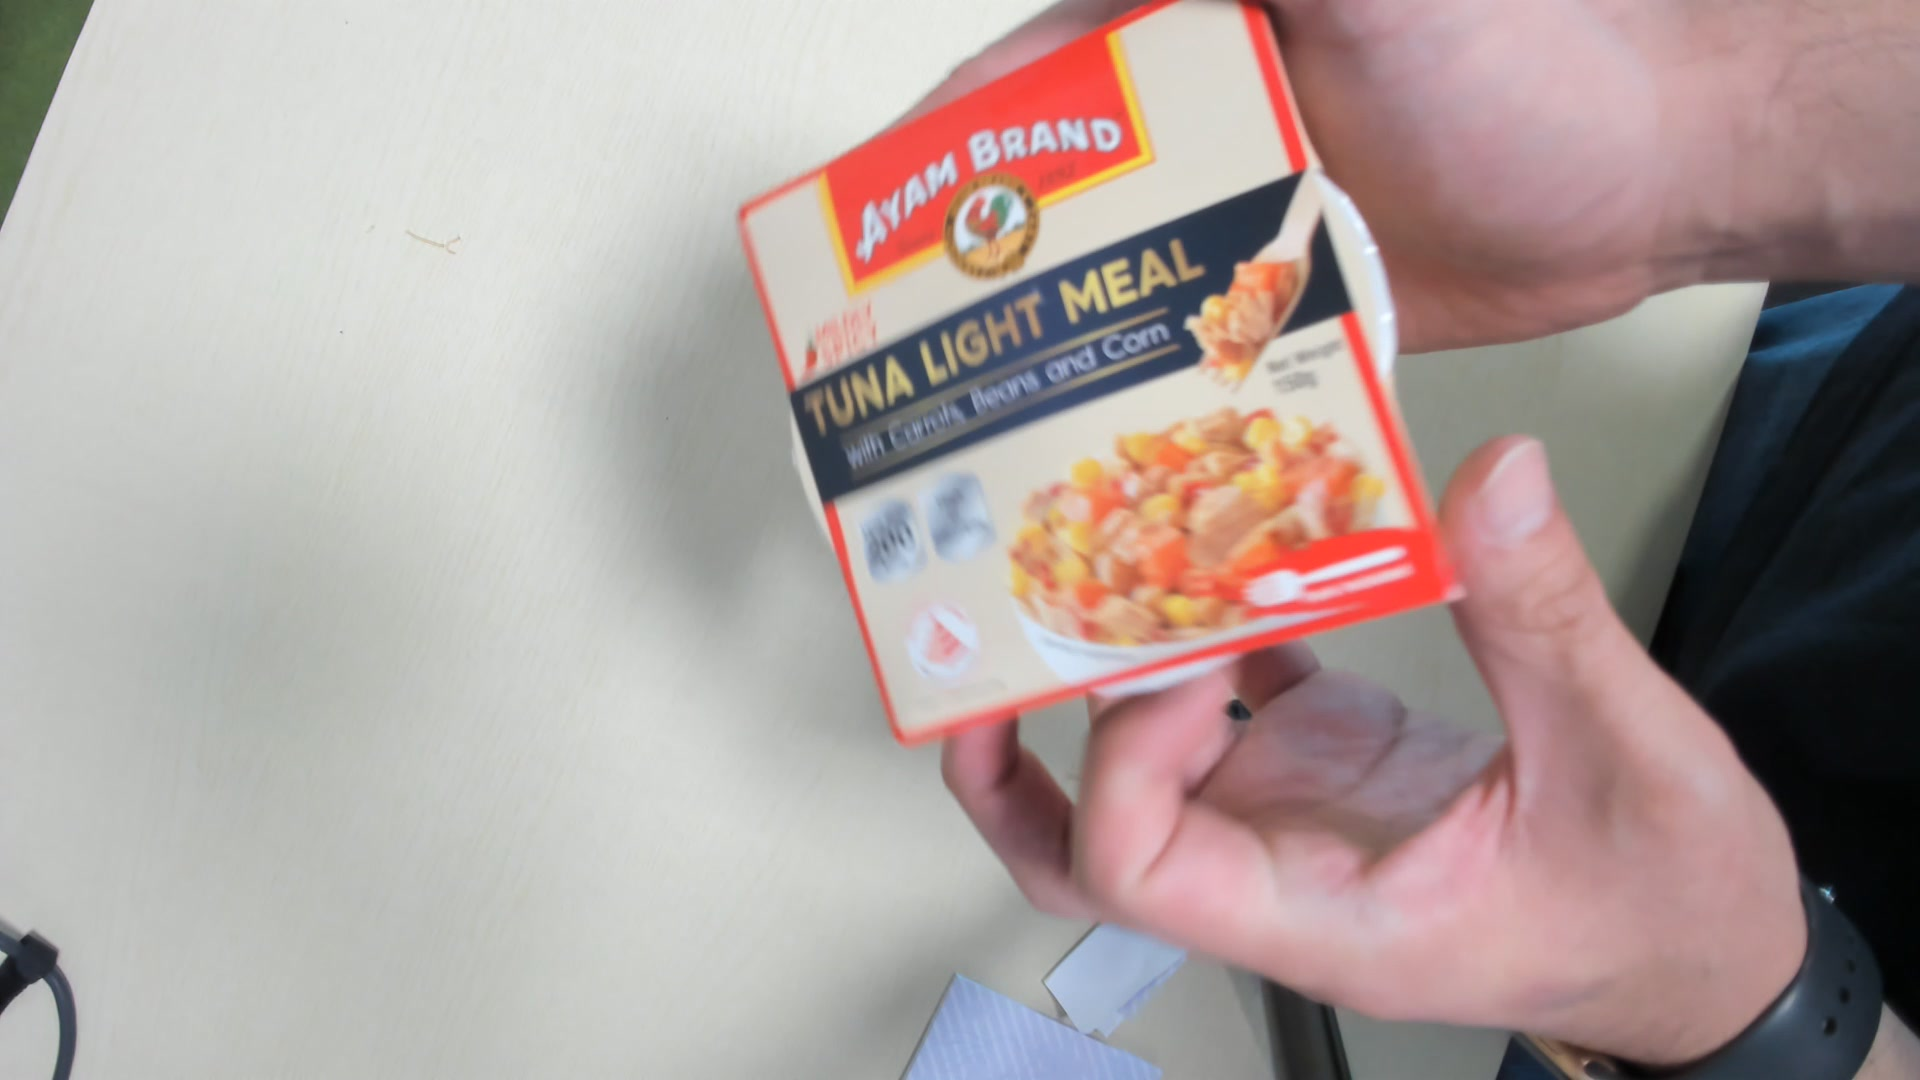InstantMeals_100-199g_NonHalal_Healthy: (731, 12, 1449, 742)
